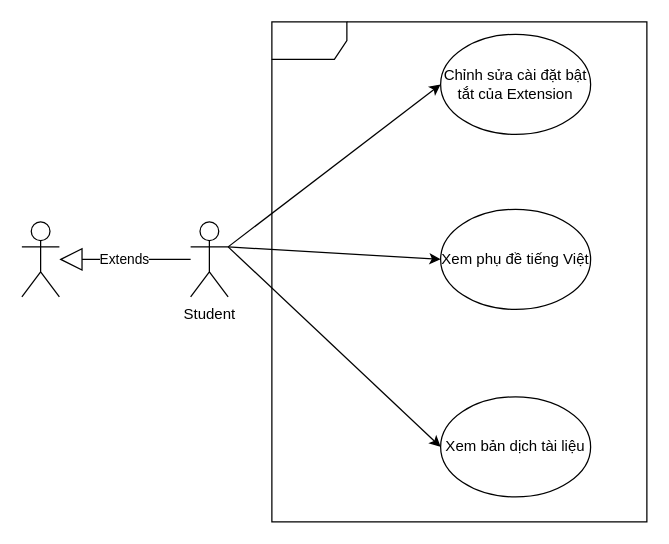
Some shapes in this 669 by 544 pixel diagram are drawn without their labels. The shapes that lost their labels are listed below. From the top down, each one's box as (x1, y1, x2, y2) in pixels, then its label:
(21, 221, 59, 297): user
(271, 21, 647, 522): Trang web tài liệu
